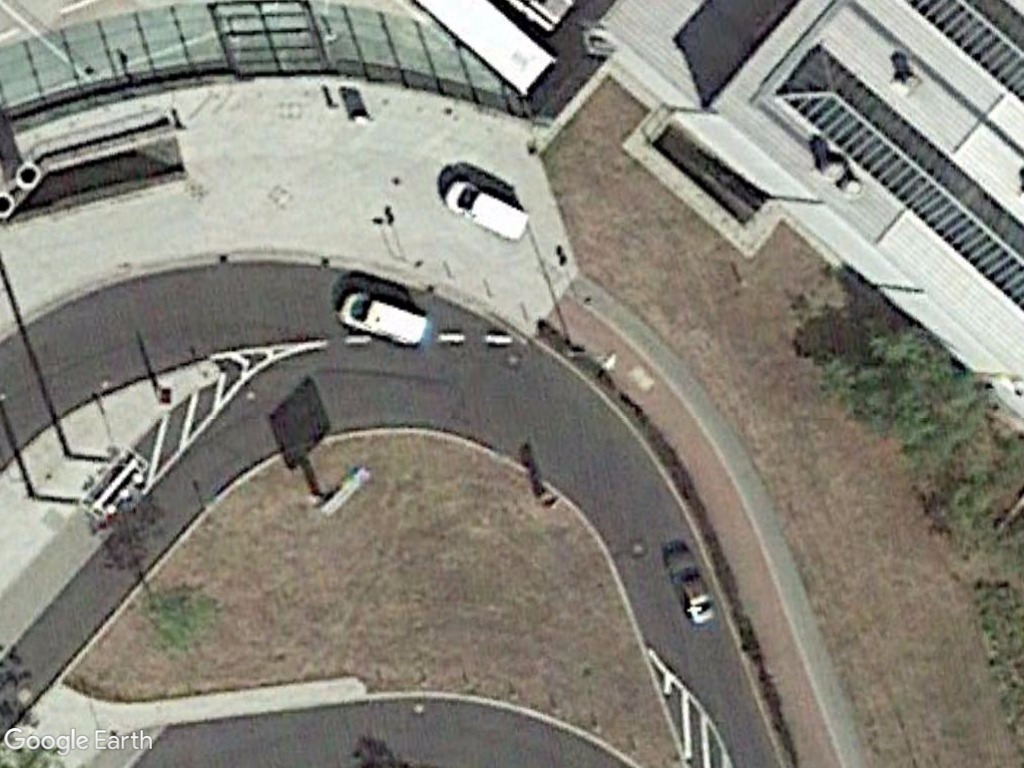van: (438, 171, 535, 248), (334, 284, 430, 352)
